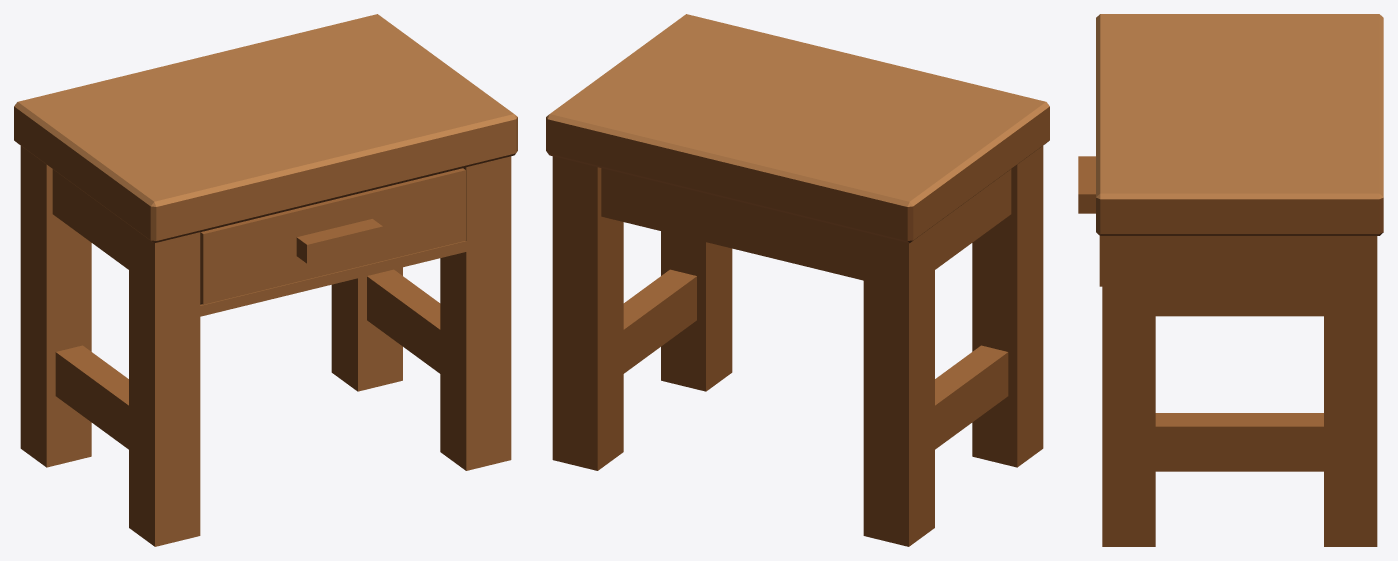
The model's file is nightstand.glb.
3 renders of one model, left to right at view 1: azimuth 30°, elevation 25°; view 2: azimuth 150°, elevation 25°; view 3: azimuth 270°, elevation 25°, orthographic. The views are drawn at different scales.
Parts seen in each view (by area): view 1: TopSlab, Leg_LF, Leg_RF, Drawer_Face, Leg_LB, Leg_RB, Stretcher_R, Stretcher_L, Apron_L, Rail_Bot, Knob; view 2: TopSlab, Leg_LB, Leg_RB, Leg_LF, Apron_B, Leg_RF, Stretcher_R, Stretcher_L, Apron_L; view 3: TopSlab, Leg_RB, Leg_RF, Stretcher_R, Apron_R, Stretcher_L, Knob.
Boxes of the visible parts, x1=… form: TopSlab: x1=14, y1=14, x2=517, y2=243; Leg_LF: x1=129, y1=225, x2=200, y2=546; Leg_RF: x1=440, y1=156, x2=511, y2=470; Drawer_Face: x1=200, y1=168, x2=465, y2=304; Leg_LB: x1=20, y1=146, x2=91, y2=467; Leg_RB: x1=331, y1=267, x2=402, y2=391; Stretcher_R: x1=367, y1=269, x2=440, y2=373; Stretcher_L: x1=55, y1=345, x2=128, y2=449; Apron_L: x1=52, y1=169, x2=128, y2=269; Rail_Bot: x1=200, y1=241, x2=466, y2=316; Knob: x1=296, y1=219, x2=382, y2=263; TopSlab: x1=546, y1=14, x2=1049, y2=243; Leg_LB: x1=863, y1=225, x2=934, y2=546; Leg_RB: x1=552, y1=156, x2=623, y2=470; Leg_LF: x1=972, y1=146, x2=1043, y2=467; Apron_B: x1=601, y1=168, x2=863, y2=280; Leg_RF: x1=661, y1=231, x2=732, y2=391; Stretcher_R: x1=623, y1=269, x2=696, y2=373; Stretcher_L: x1=935, y1=345, x2=1008, y2=449; Apron_L: x1=935, y1=169, x2=1011, y2=269; TopSlab: x1=1096, y1=14, x2=1383, y2=235; Leg_RB: x1=1324, y1=236, x2=1377, y2=546; Leg_RF: x1=1102, y1=236, x2=1155, y2=546; Stretcher_R: x1=1155, y1=413, x2=1323, y2=471; Apron_R: x1=1155, y1=236, x2=1323, y2=286; Stretcher_L: x1=1155, y1=286, x2=1323, y2=316; Knob: x1=1078, y1=156, x2=1095, y2=213.
Size of the model in its own units: 0.61 by 0.55 by 0.43.
